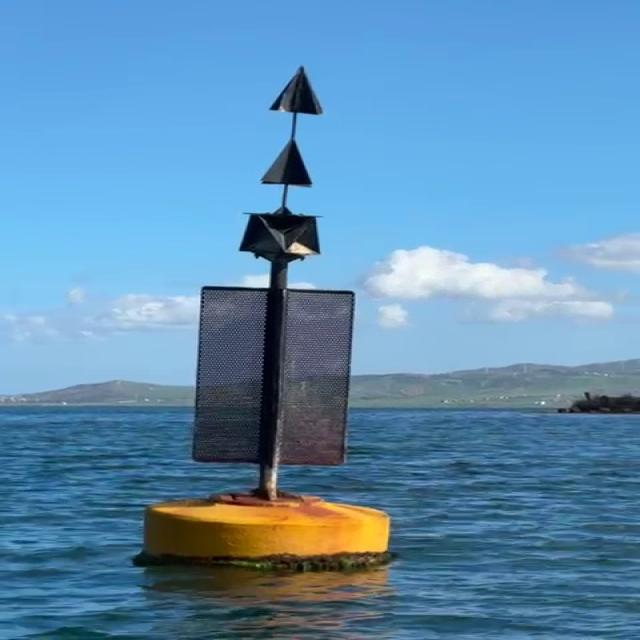marque: (129, 69, 400, 575)
